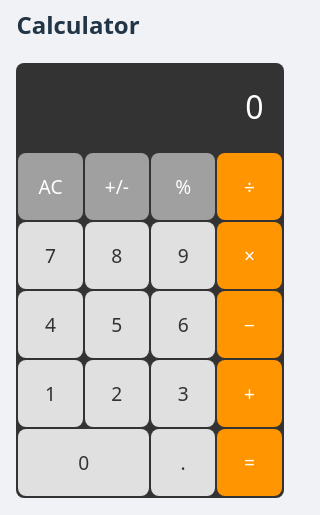
it: Calculator componant test › should perform subtraction
Click the button with test id "btn-5". click: (117, 324)
box: [85,291,149,358]
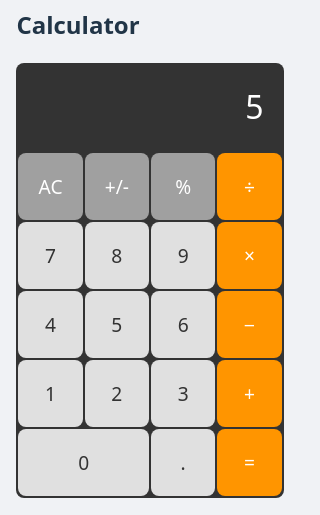
Click the button with test id "btn-subtract". click: (249, 324)
box: [217,291,282,358]
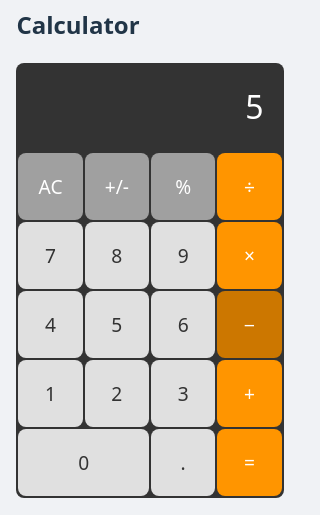
Click the button with test id "btn-3". click: (183, 393)
box: [151,360,215,427]
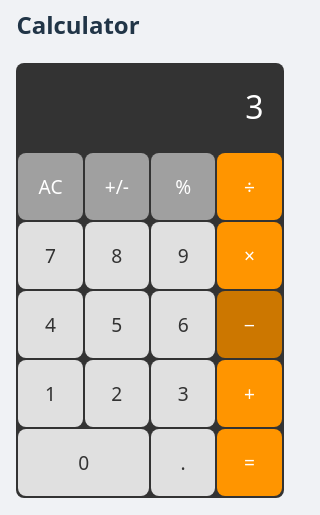
Click the button with test id "btn-equals". click: (249, 462)
box: [217,429,282,496]
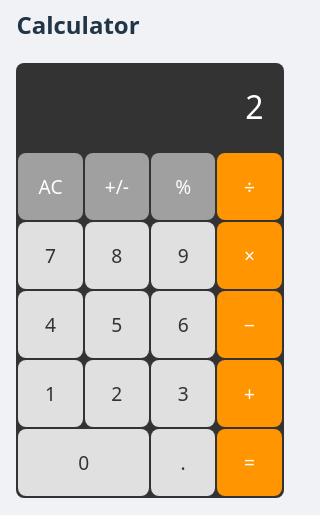
Expected: the text with test id "calc-display" reads "2", [245,85,264,128]
